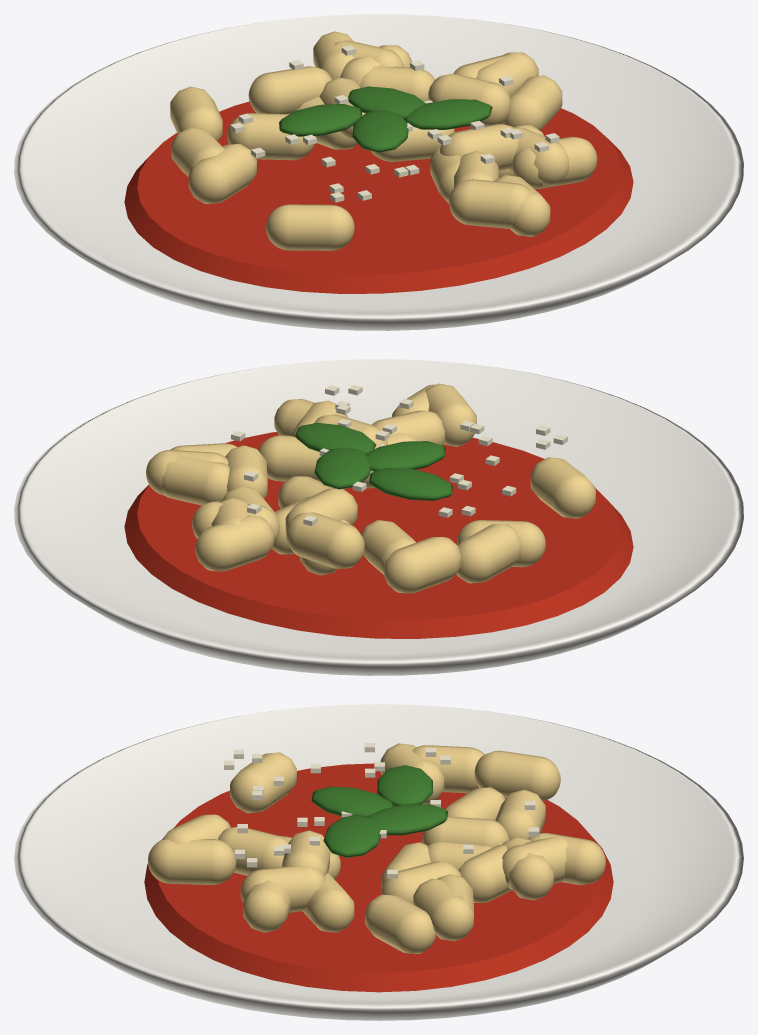
File: noquis.glb
3 renders of one model, top to bottom at view 1: azimuth 30°, elevation 25°; view 2: azimuth 150°, elevation 25°; view 3: azimuth 270°, elevation 25°, orthographic.
Size of the model in its own units: 0.28 by 0.0435 by 0.28.
